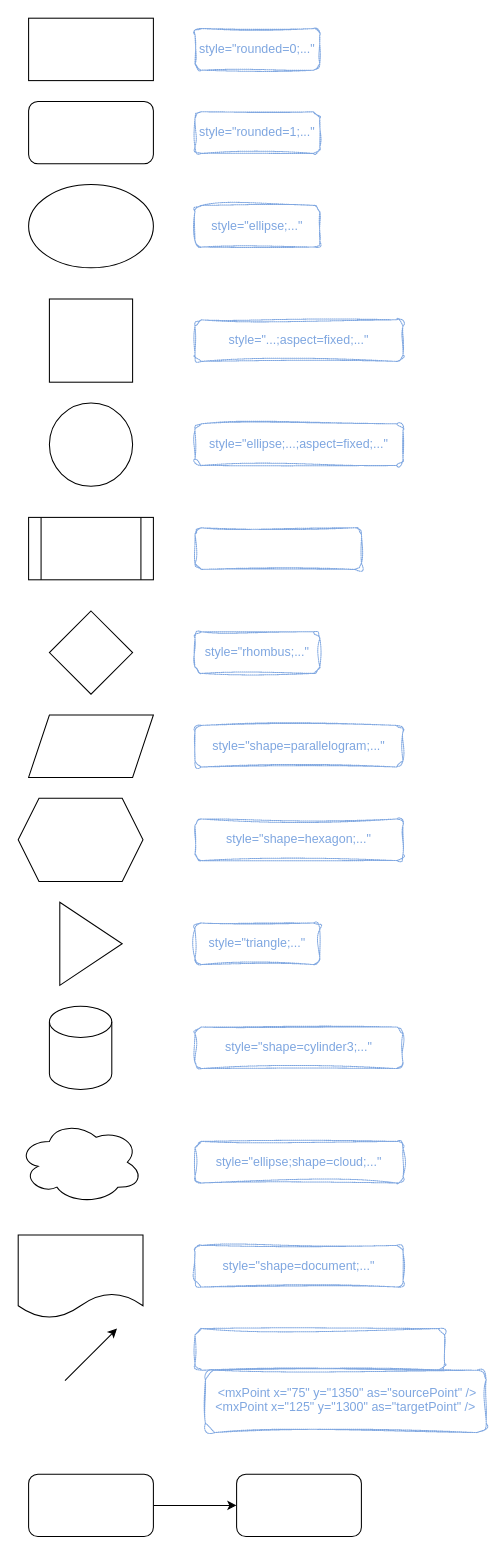
The diagram is 504 pixels wide and 1555 high, and some of its shapes have lost their labels. The centre of each missing label's shape, as x and y in pixels:
style="endArrow=classic;..." edge=1: (319,1349)
style="shape=process;...": (277,548)
